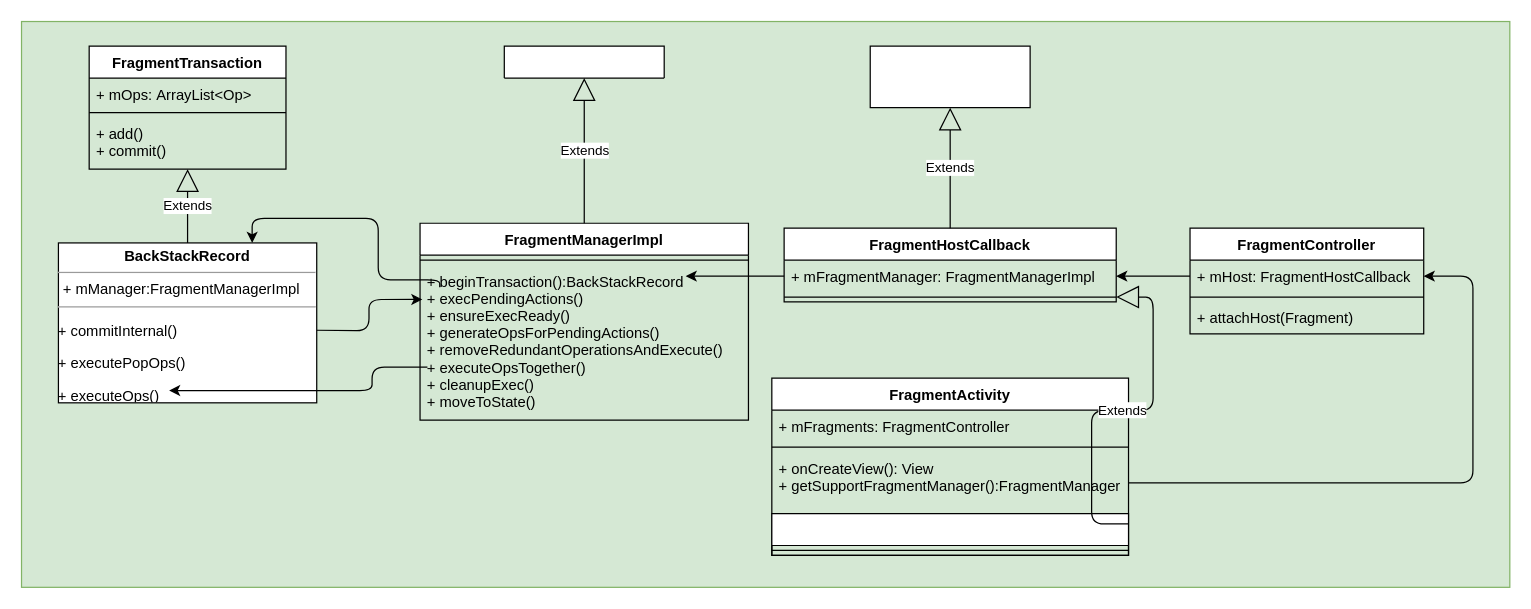
Image size: 1531x609. Some labels were removed from this diagram. Here are the shapes that lost their labels. From the top down, the centre of each, then its label:
pixel 583 61: FragmentManager
pixel 949 76: «interface» FragmentContainer
pixel 950 533: HostCallbacks
